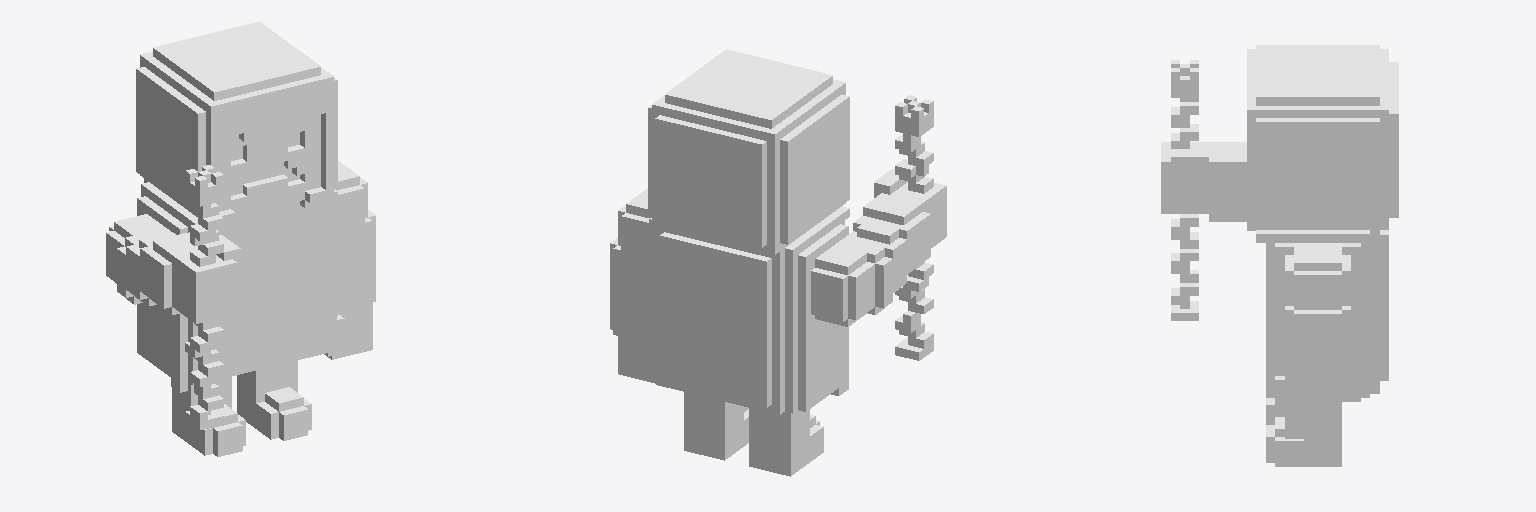
The model's file is wizard3.obj.
3 renders of one model, left to right at view 1: azimuth 30°, elevation 25°; view 2: azimuth 150°, elevation 25°; view 3: azimuth 270°, elevation 25°, orthographic.
Parts seen in each view (by area): view 1: object 1; view 2: object 1; view 3: object 1.
Boxes of the visible parts, x1,y1,x2,y2 form: object 1: [106, 21, 375, 456]; object 1: [610, 49, 946, 476]; object 1: [1161, 45, 1398, 466].
Bounding box in the file's own units: 3.1 × 4.3 × 2.5.